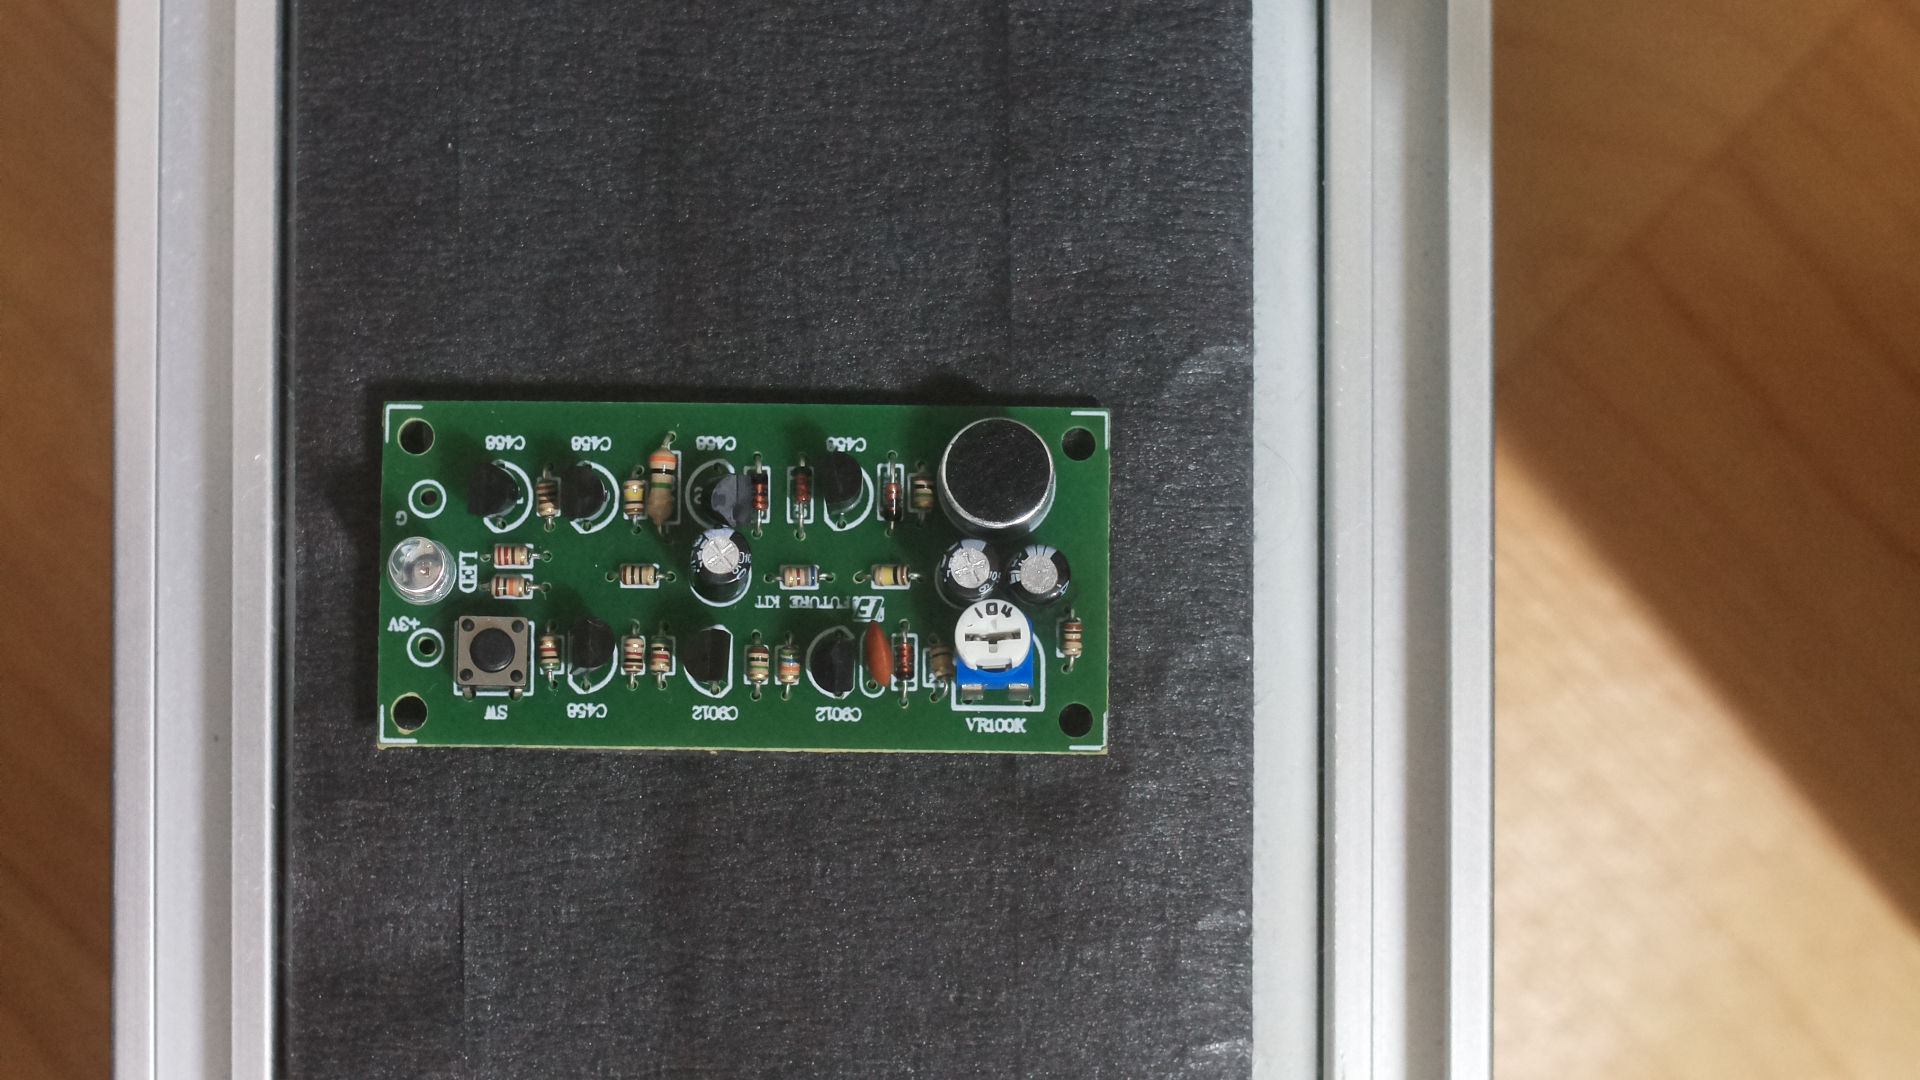A_Normal: (371, 385, 1122, 765)
